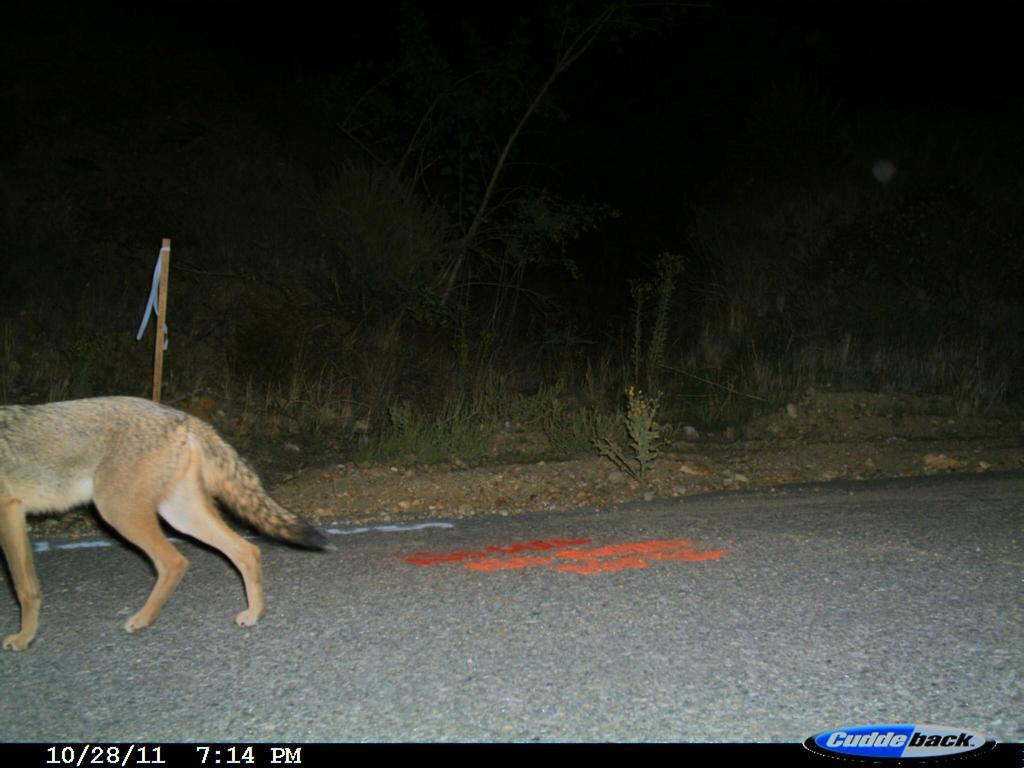coyote: (1, 390, 337, 654)
